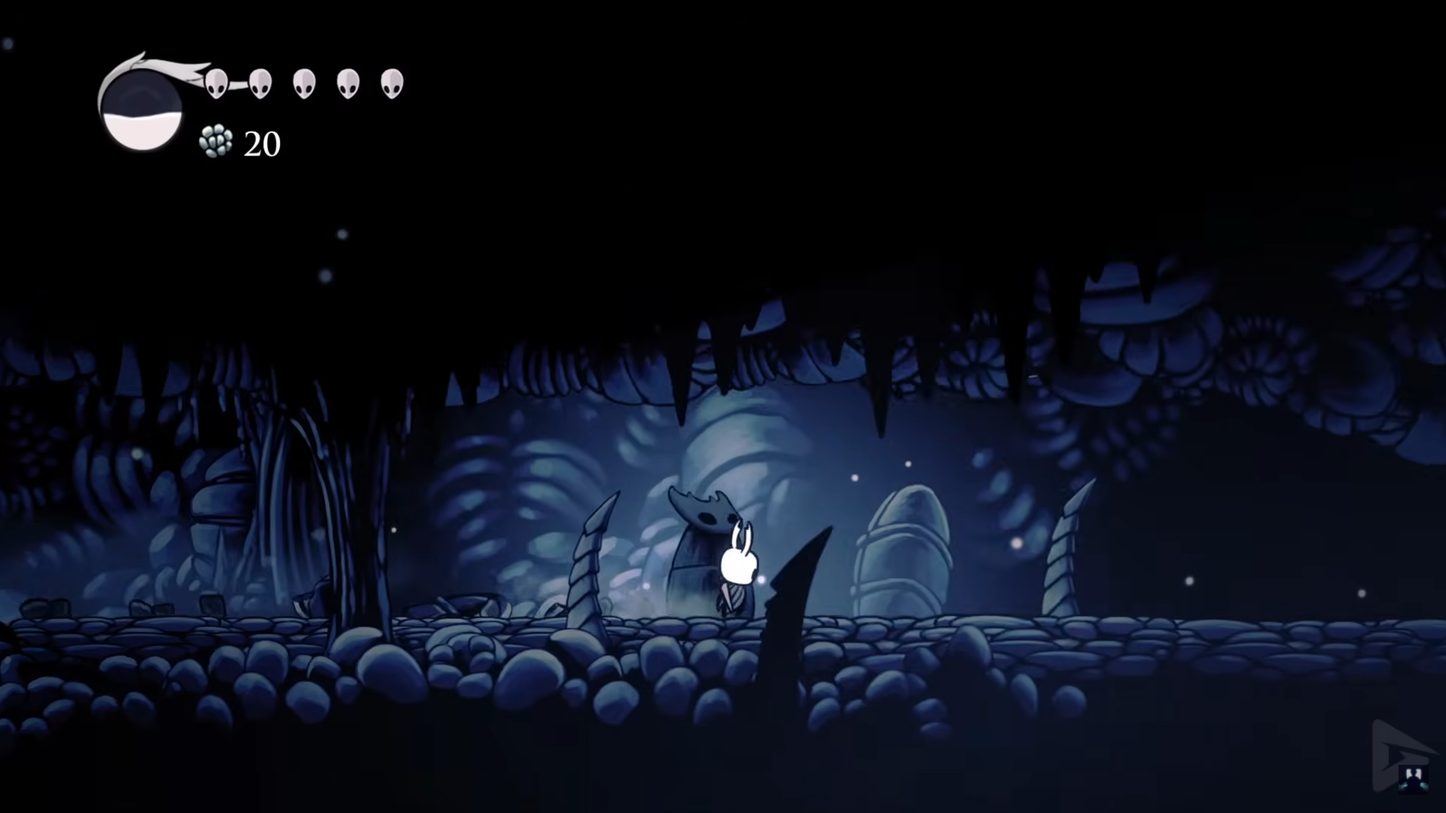HK: (709, 516, 767, 621)
